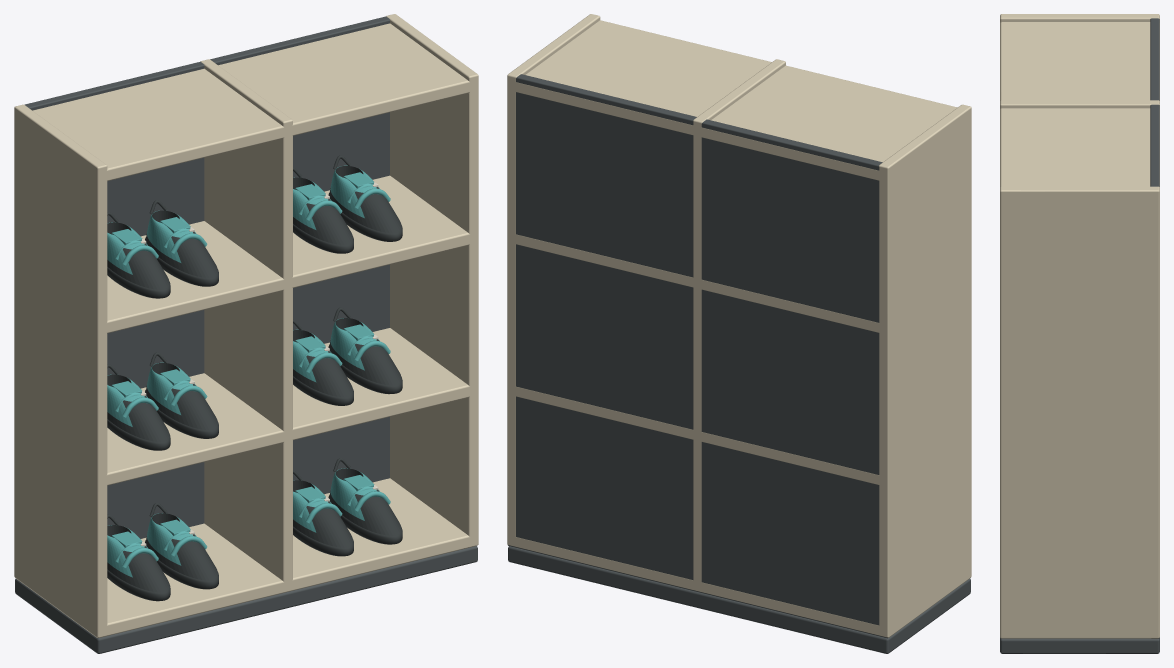
Rendered from indoor-climbing-and-bouldering-gym-indoor-climbing-and-d673d5bd__31549.glb.
The picture shows the model from 3 angles, left to right: view 1: azimuth 30°, elevation 25°; view 2: azimuth 150°, elevation 25°; view 3: azimuth 270°, elevation 25°; orthographic projection. The views are drawn at different scales.
Visible parts, largest first — view 1: indoor-climbing-and-bouldering-gym-ventilated-shoe-cubby; view 2: indoor-climbing-and-bouldering-gym-ventilated-shoe-cubby; view 3: indoor-climbing-and-bouldering-gym-ventilated-shoe-cubby.
Part boxes in pixels (bbox=[...]): indoor-climbing-and-bouldering-gym-ventilated-shoe-cubby: bbox=[14, 14, 478, 653]; indoor-climbing-and-bouldering-gym-ventilated-shoe-cubby: bbox=[507, 14, 971, 653]; indoor-climbing-and-bouldering-gym-ventilated-shoe-cubby: bbox=[1000, 14, 1159, 653].
Size of the model in its own units: 1.1 by 1.35 by 0.42.
